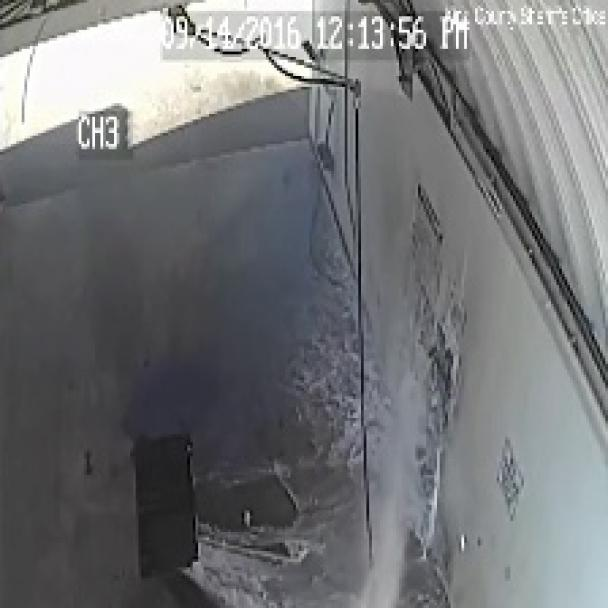smoke: (149, 209, 543, 605)
